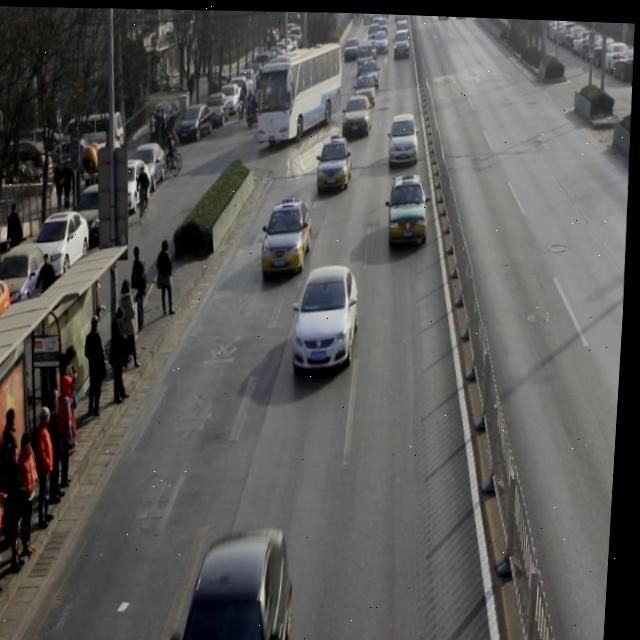car: (180, 518, 302, 640), (294, 259, 365, 370), (263, 196, 316, 273), (388, 172, 432, 245), (316, 134, 355, 189), (388, 110, 421, 164), (343, 92, 374, 135), (354, 71, 378, 106), (360, 56, 381, 88)
van: (255, 38, 345, 151)
